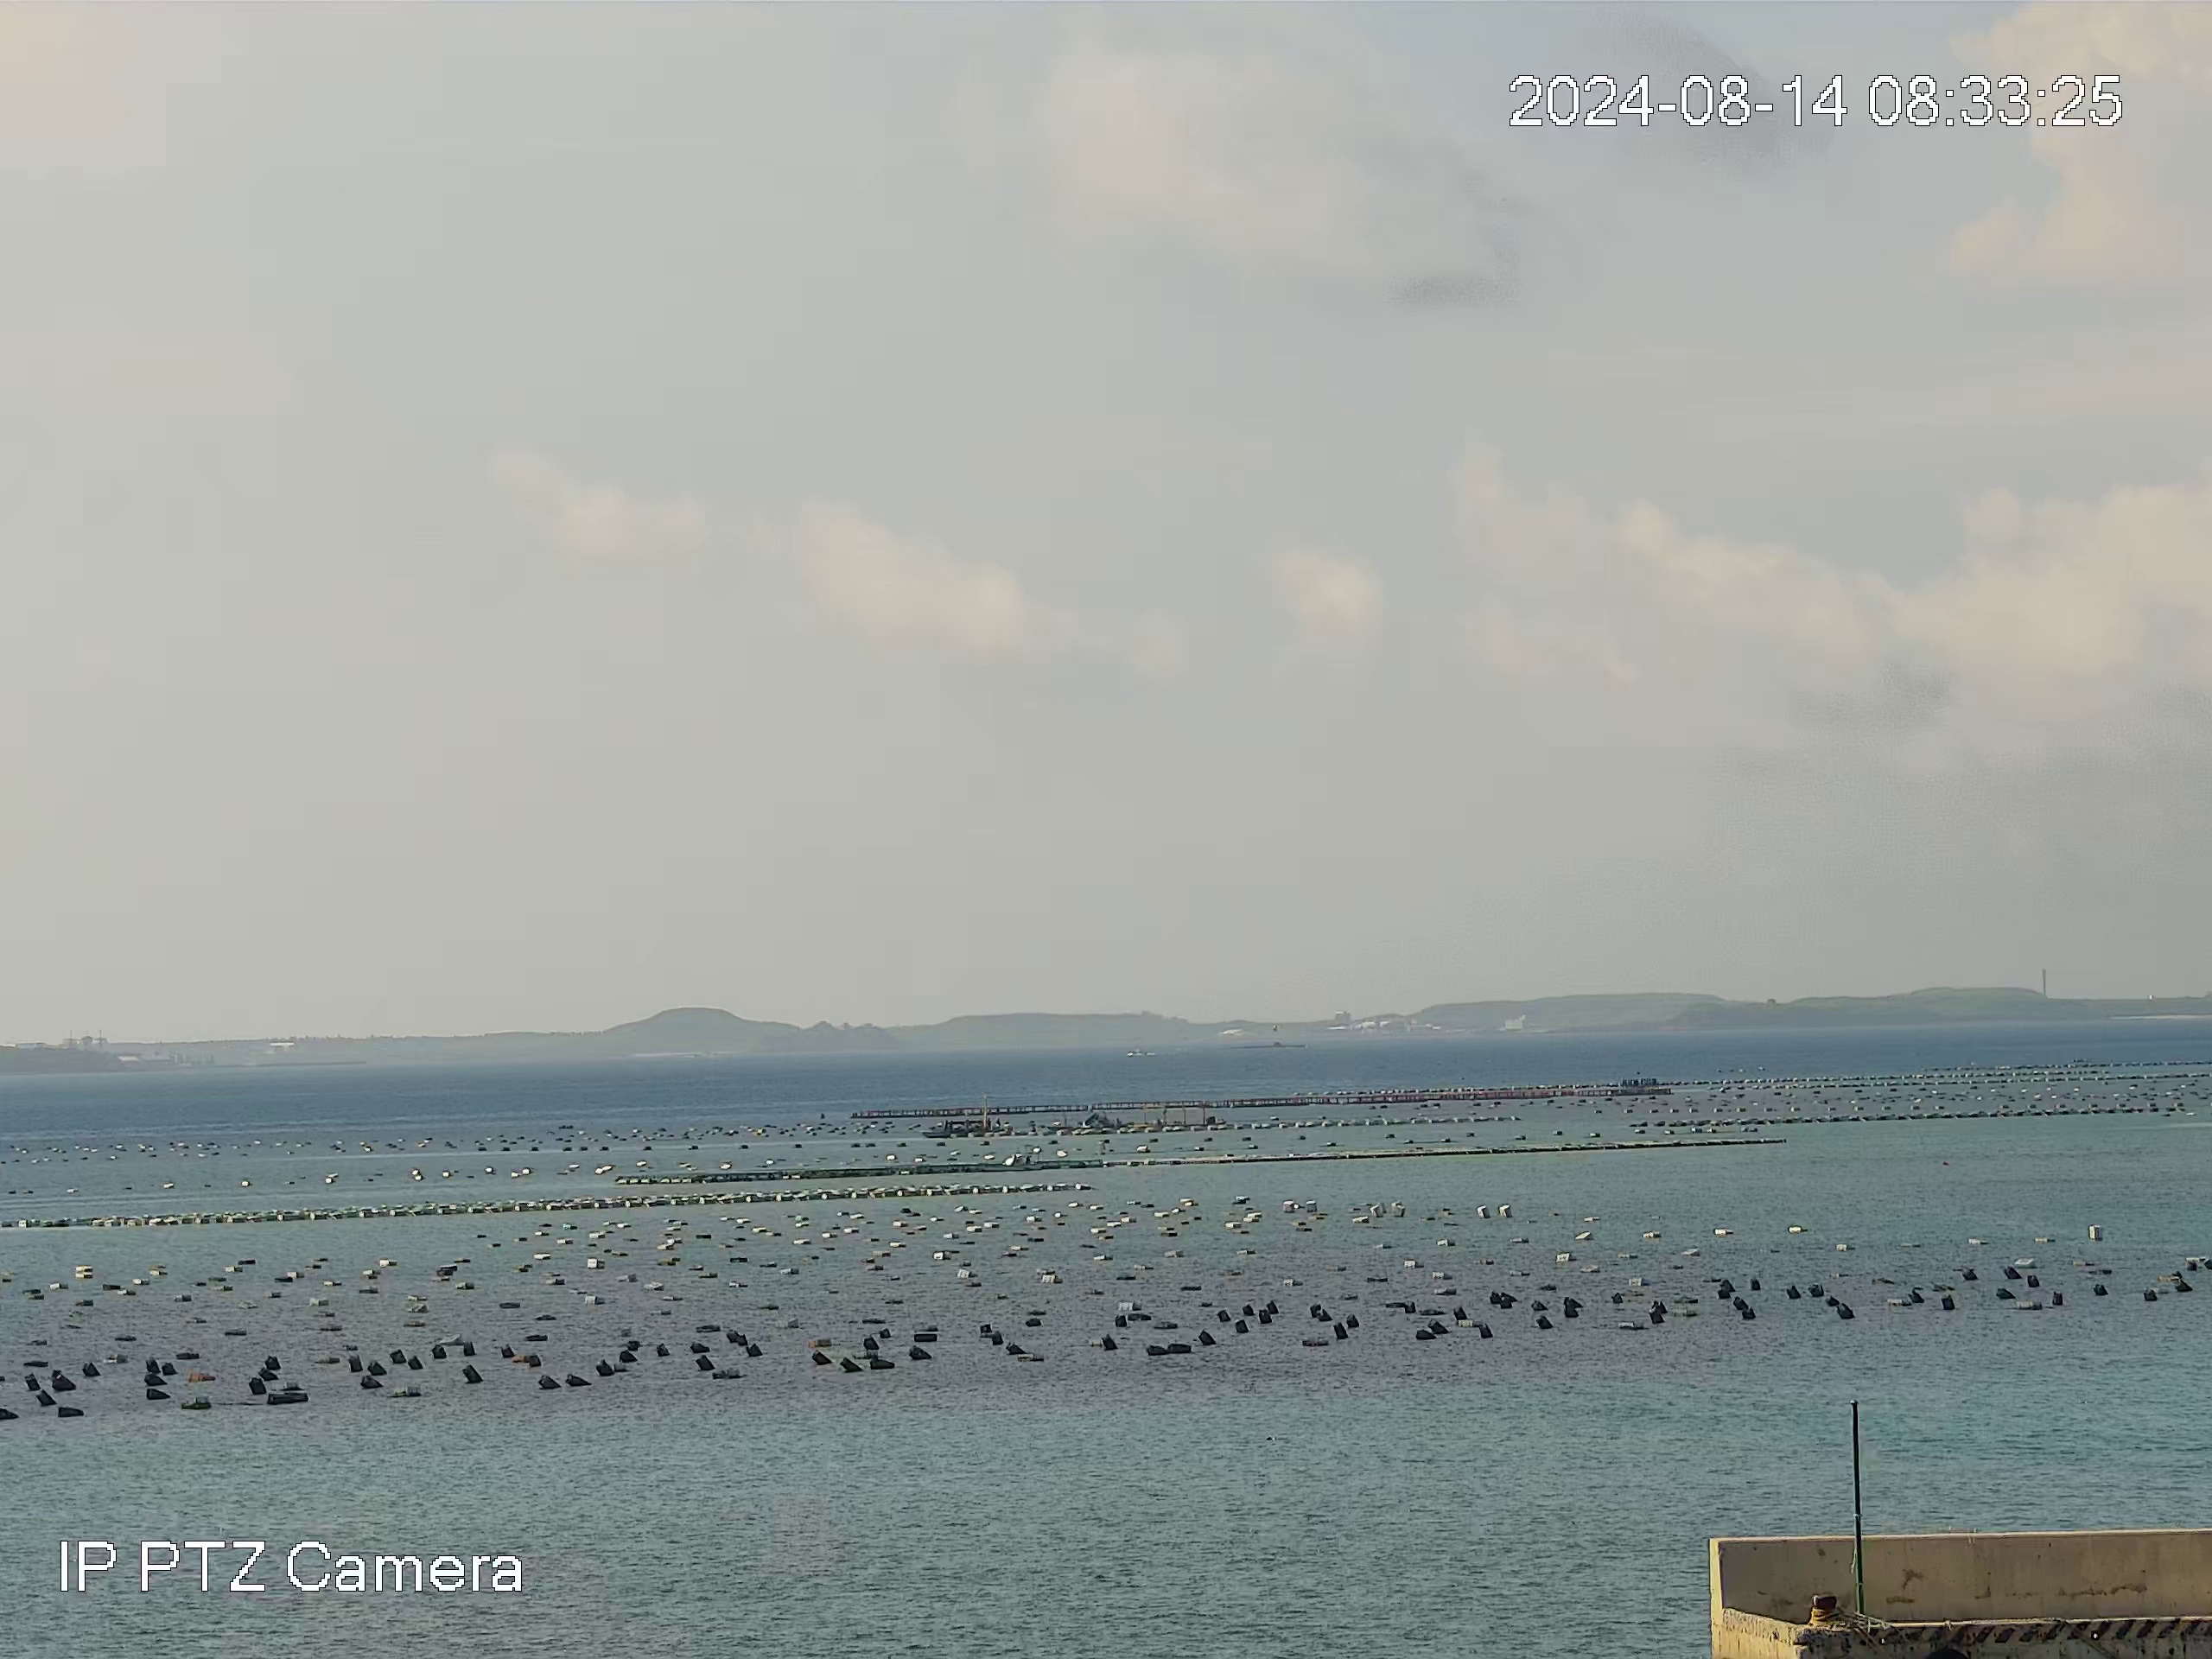boat: (923, 1116, 1006, 1141)
